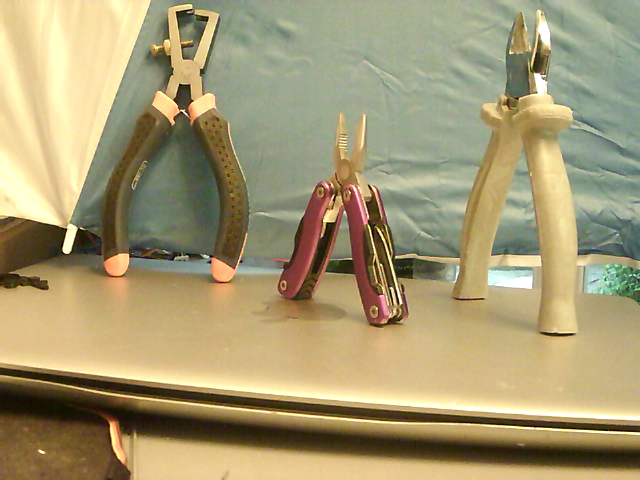pliers: (449, 8, 589, 339), (275, 104, 415, 332)
